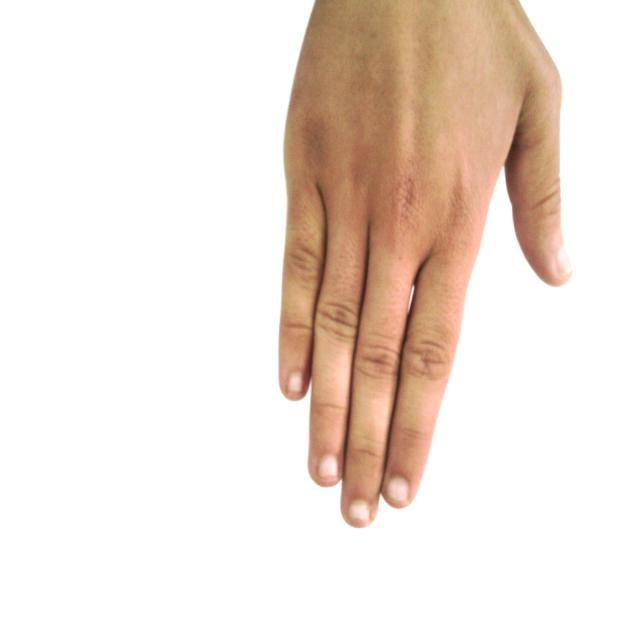Fingernail: (386, 477, 408, 503), (349, 499, 370, 520), (557, 250, 572, 276), (320, 455, 338, 475), (288, 374, 302, 394)
